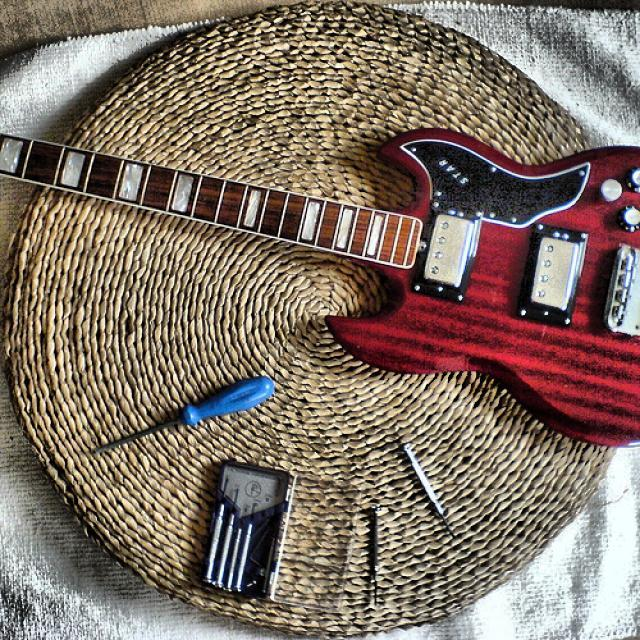screwdriver: (93, 375, 274, 451)
